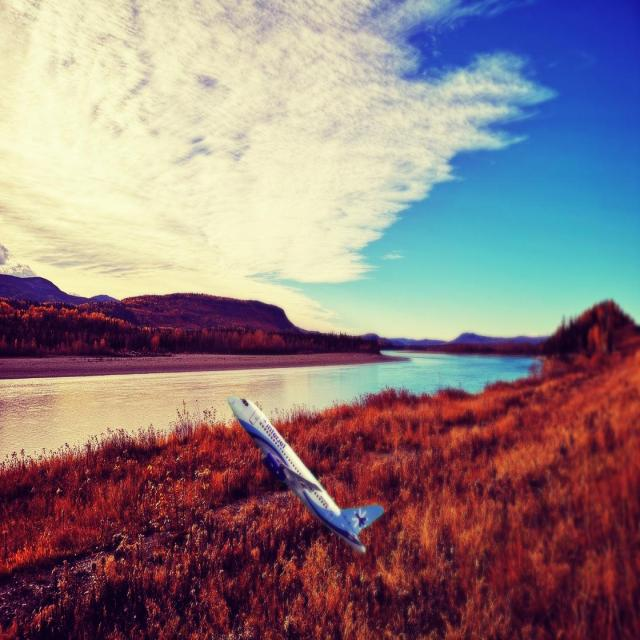airplane: (226, 395, 384, 554)
